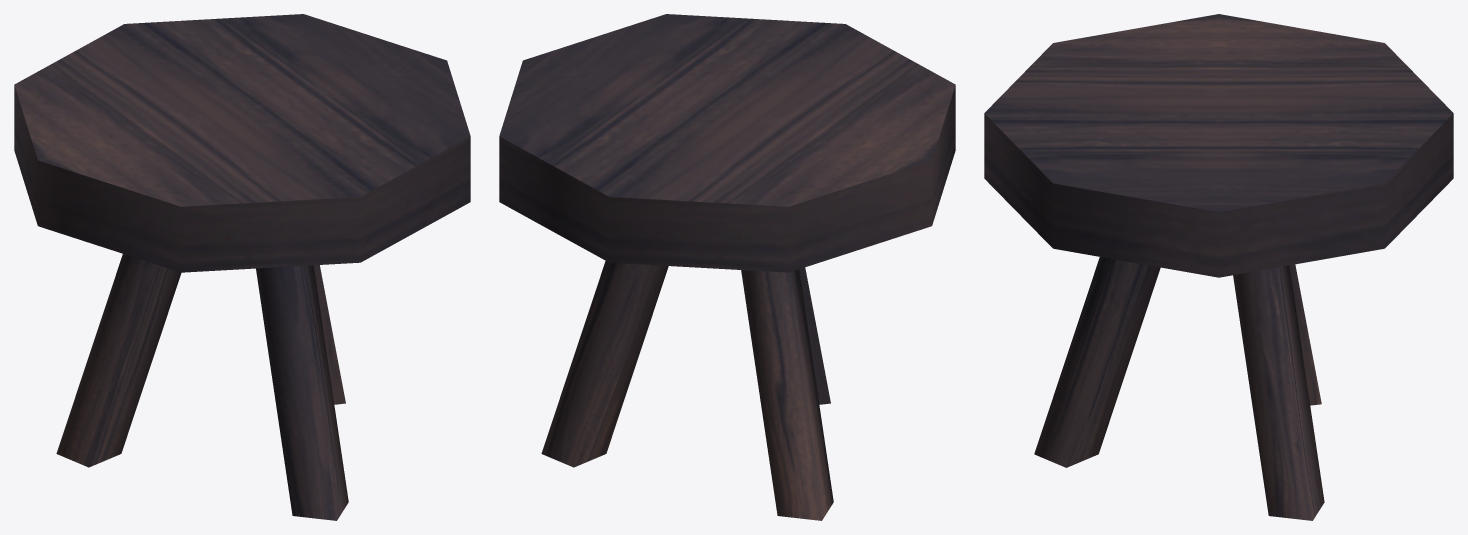
The model's file is Stool_A.fbx.
3 views of the same model, side by side, from view 1: azimuth 30°, elevation 25°; view 2: azimuth 150°, elevation 25°; view 3: azimuth 270°, elevation 25° (orthographic).
Visible parts, largest first — view 1: Stool_A; view 2: Stool_A; view 3: Stool_A.
Part boxes in pixels (x1=…): Stool_A: x1=14, y1=14, x2=470, y2=520; Stool_A: x1=499, y1=14, x2=955, y2=520; Stool_A: x1=984, y1=14, x2=1453, y2=520.
Bounding box in the file's own units: 0.152 × 0.1217 × 0.152.
